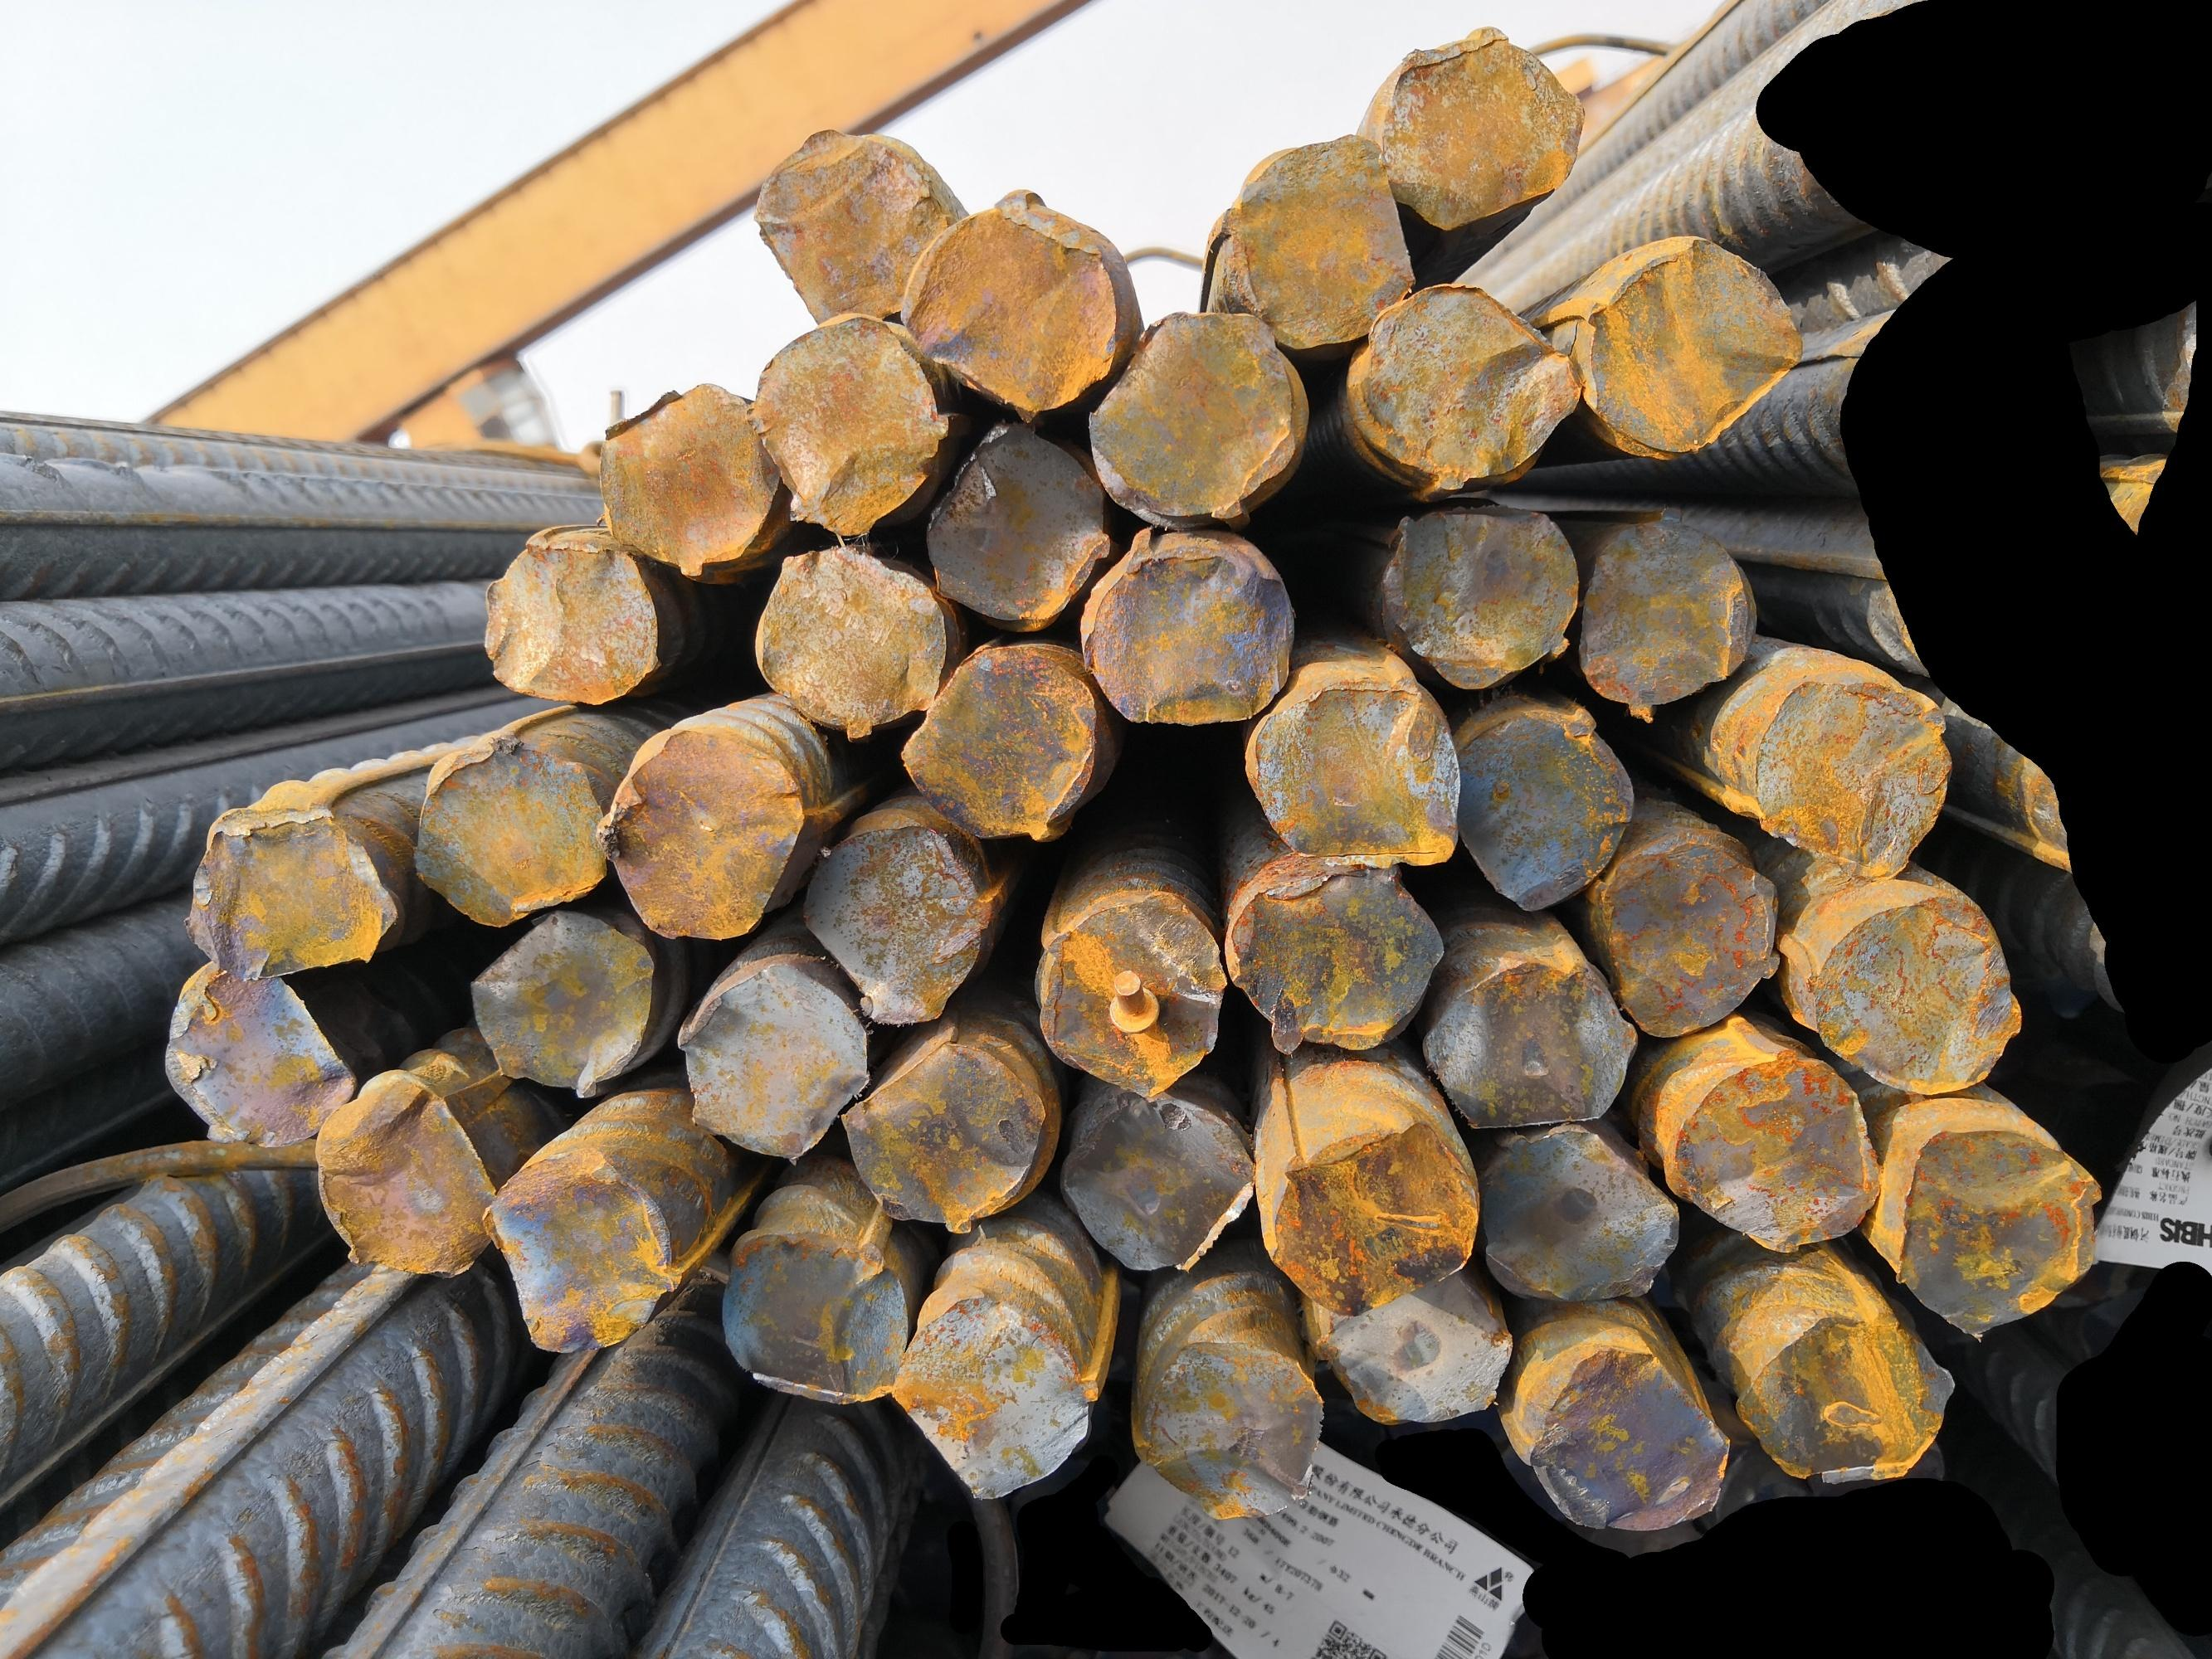bar: (1780, 880, 2027, 1098), (899, 188, 1128, 418), (1576, 230, 1806, 458), (1351, 275, 1583, 493), (1077, 308, 1309, 523), (1659, 1040, 1884, 1255), (600, 723, 812, 946), (835, 1026, 1058, 1237), (889, 1291, 1107, 1504), (1743, 671, 1956, 889), (751, 310, 957, 535), (1508, 1333, 1733, 1537), (1222, 861, 1447, 1065), (1374, 19, 1590, 230), (1264, 1108, 1483, 1316), (1888, 1122, 2107, 1326), (750, 120, 959, 329), (1082, 521, 1293, 727), (478, 1155, 690, 1359), (800, 817, 1002, 1032), (675, 951, 872, 1171), (307, 1058, 500, 1281), (1245, 671, 1461, 870), (1032, 882, 1229, 1098), (1731, 1304, 1963, 1486), (899, 634, 1098, 847), (1218, 131, 1412, 349), (1588, 826, 1783, 1037), (1447, 702, 1637, 918), (159, 955, 361, 1157), (183, 800, 403, 985), (408, 732, 610, 932), (1374, 498, 1581, 694), (922, 416, 1114, 627), (750, 540, 952, 739), (1123, 1330, 1330, 1523), (1419, 953, 1640, 1133), (1473, 1121, 1684, 1309), (1579, 498, 1761, 714), (465, 903, 662, 1100), (1063, 1084, 1260, 1279), (713, 1220, 915, 1406), (594, 375, 776, 579), (1302, 1263, 1517, 1427), (478, 528, 668, 706)
